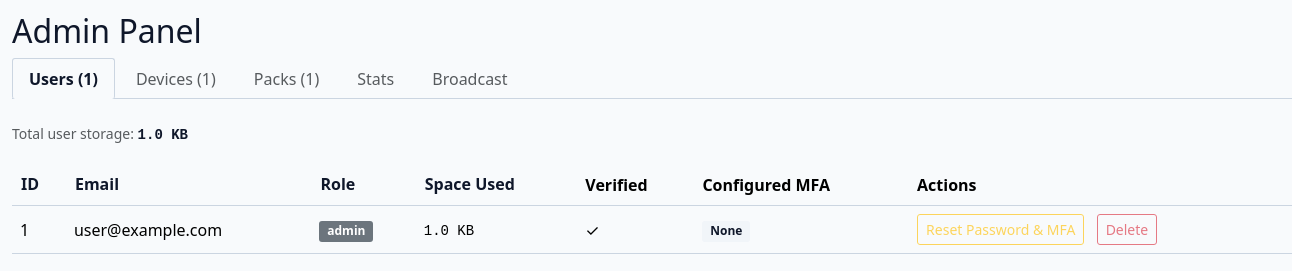
Route Pages Load Verification › updates link on navtab click and restores tab from URL query param
This screenshot has width=1292, height=271.
Click the button "Devices (1)".
click(176, 79)  # box top-left (136, 68), bottom-right (216, 90)
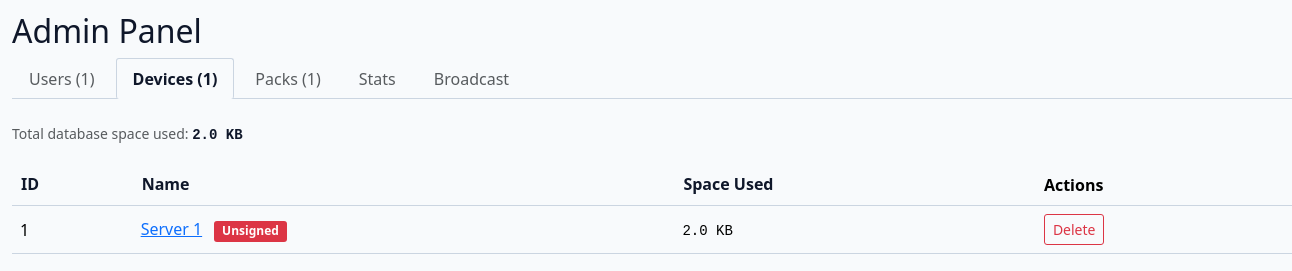
Result: the text "Total database space used:" is shown at top-left (12, 124), bottom-right (192, 143)
Result: the link "Server 1" is shown at top-left (141, 218), bottom-right (202, 240)
